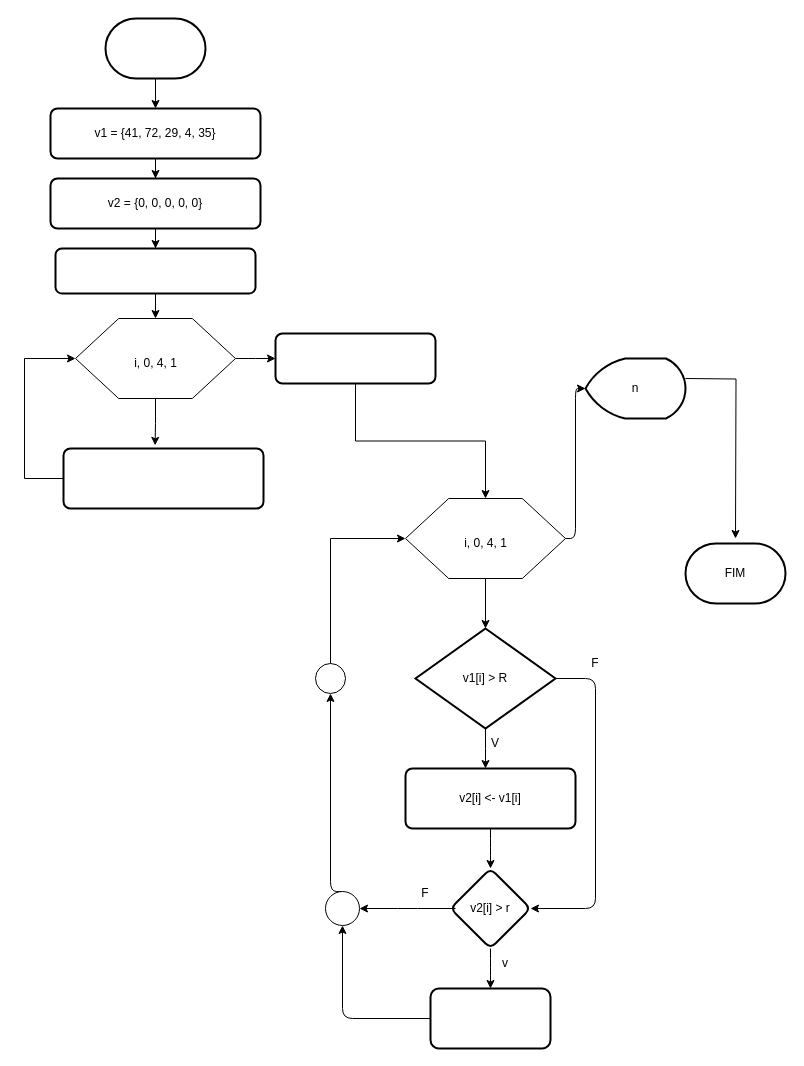
The diagram is 804 pixels wide and 1066 high, and some of its shapes have lost their labels. Each missing label, with the box of its shape:
INICIO: (104, 17, 206, 79)
n++: (429, 987, 551, 1049)
R = S / 5: (274, 332, 436, 384)
S <- 0: (54, 247, 256, 294)
S <- S + v[I]: (62, 447, 264, 509)
